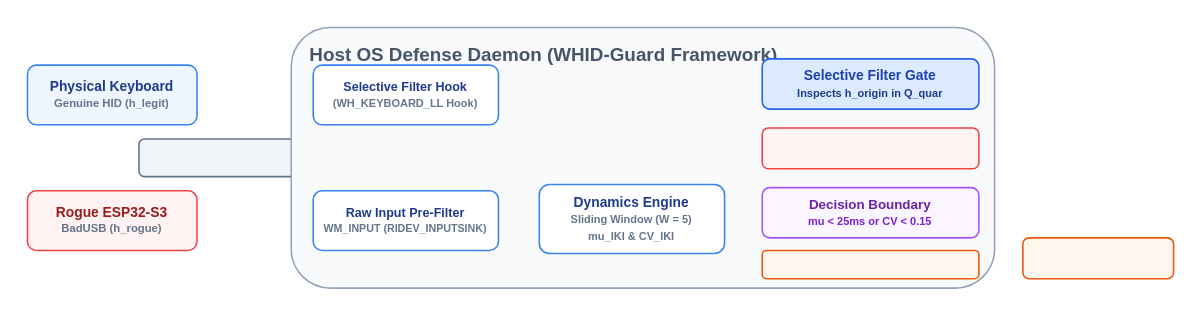
The diagram is 1201 pixels wide and 316 high, and some of its shapes have lost their labels. The centre of each missing label's shape, as x and y in pixels:
"15s Watchdog (Auto-Reset)" goes at pixel 870 264.
"Global Pipeline Flush & Gate Override" goes at pixel 1097 257.
"Quarantine Table (Blacklist) Isolates Handle h_rogue" goes at pixel 870 147.
"USB Root Hub" goes at pixel 243 157.
